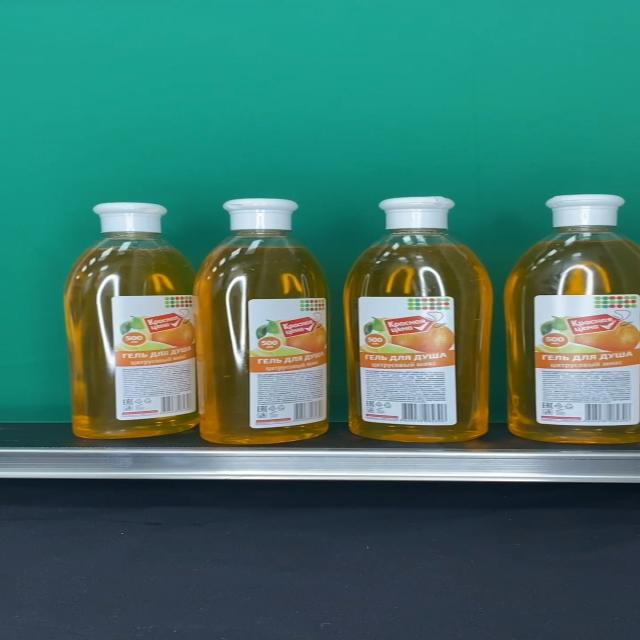Bottle: (343, 196, 493, 442), (506, 194, 640, 444), (195, 198, 329, 443), (64, 203, 200, 439)
Cap: (546, 195, 625, 228), (380, 196, 454, 229), (224, 198, 298, 230), (94, 203, 166, 233)
